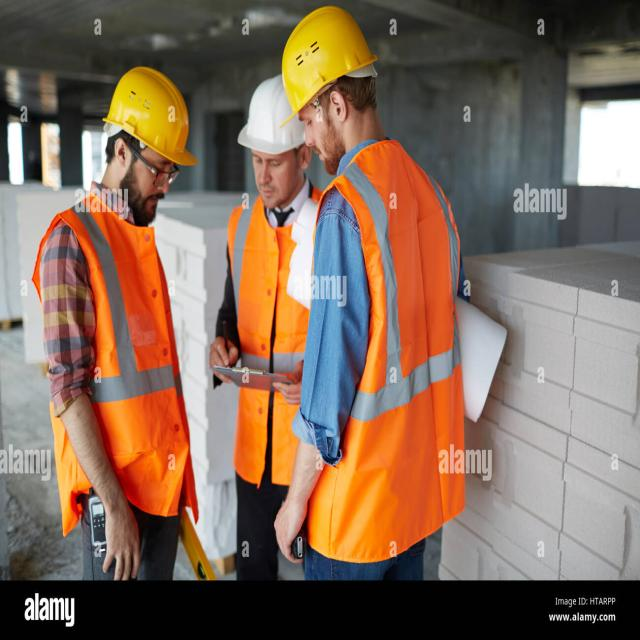helmet: (273, 6, 388, 131), (94, 56, 194, 170), (231, 76, 305, 158)
no-goggles: (242, 146, 302, 178), (294, 113, 334, 136)
vest: (296, 137, 469, 552), (40, 206, 196, 535), (222, 200, 310, 492)
